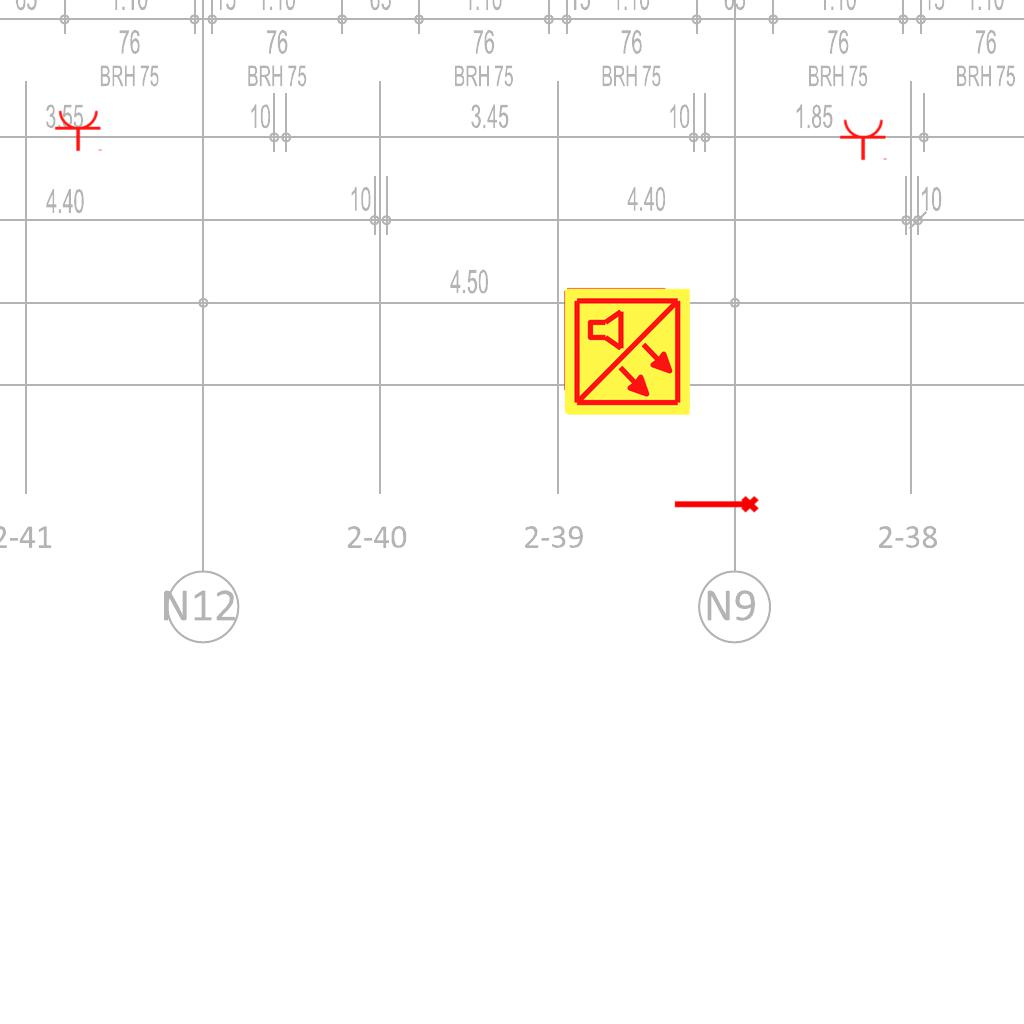ASR_Ansaugoeffnung: (672, 494, 760, 517)
OKW_Multisensormelder_(Kombination_optischer_Rauch-Kahlenmonoxid_Waerme-Melder): (561, 286, 693, 418)
Schukosteckdose_einfach: (839, 118, 889, 161), (54, 109, 104, 152)
